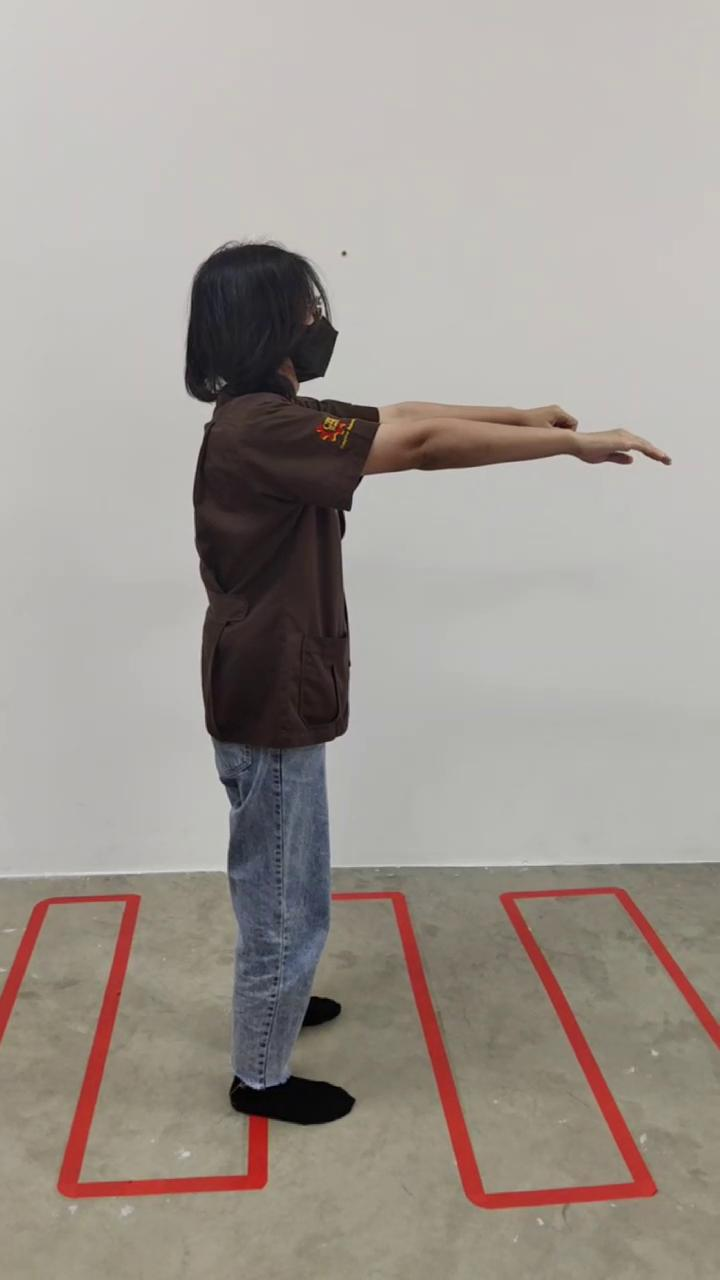squat up: (185, 242, 670, 1128)
